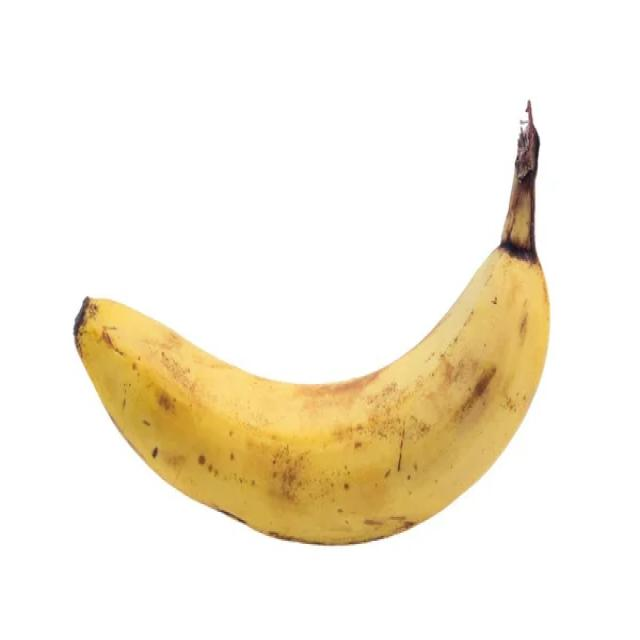Banana: (68, 112, 552, 551)
